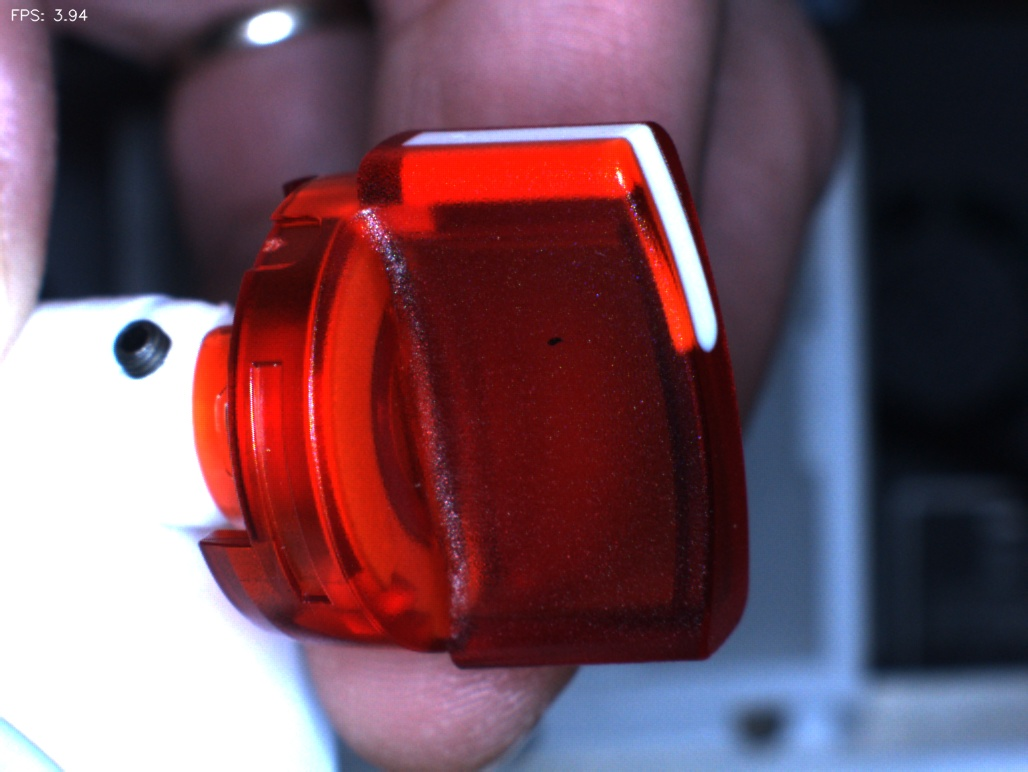PointNoir: (510, 306, 595, 383)
